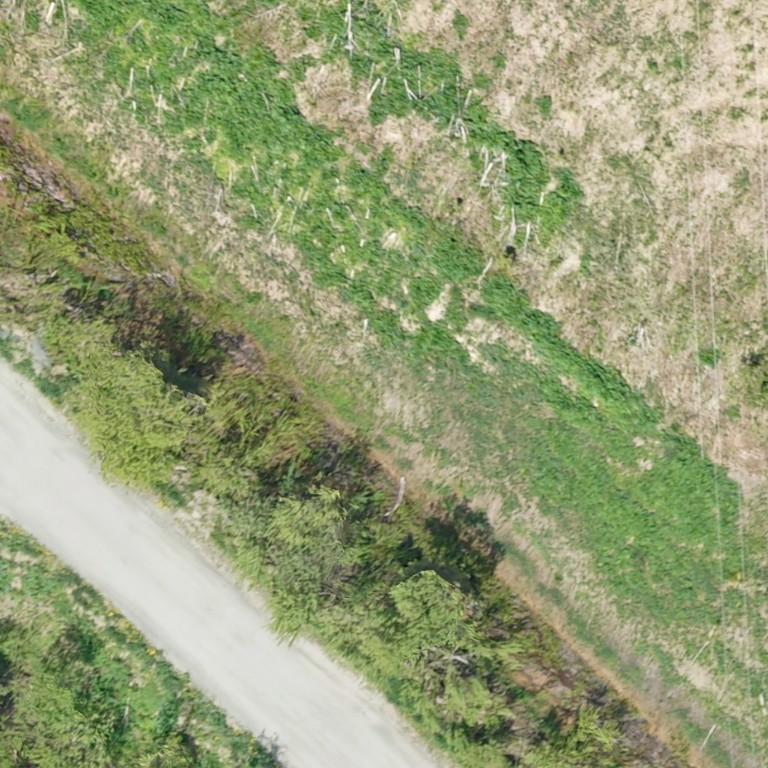hogweed: (327, 8, 581, 225), (76, 0, 340, 164), (480, 279, 659, 428), (299, 233, 399, 339), (344, 161, 424, 228), (430, 236, 483, 278), (418, 323, 466, 362), (408, 278, 438, 307)
